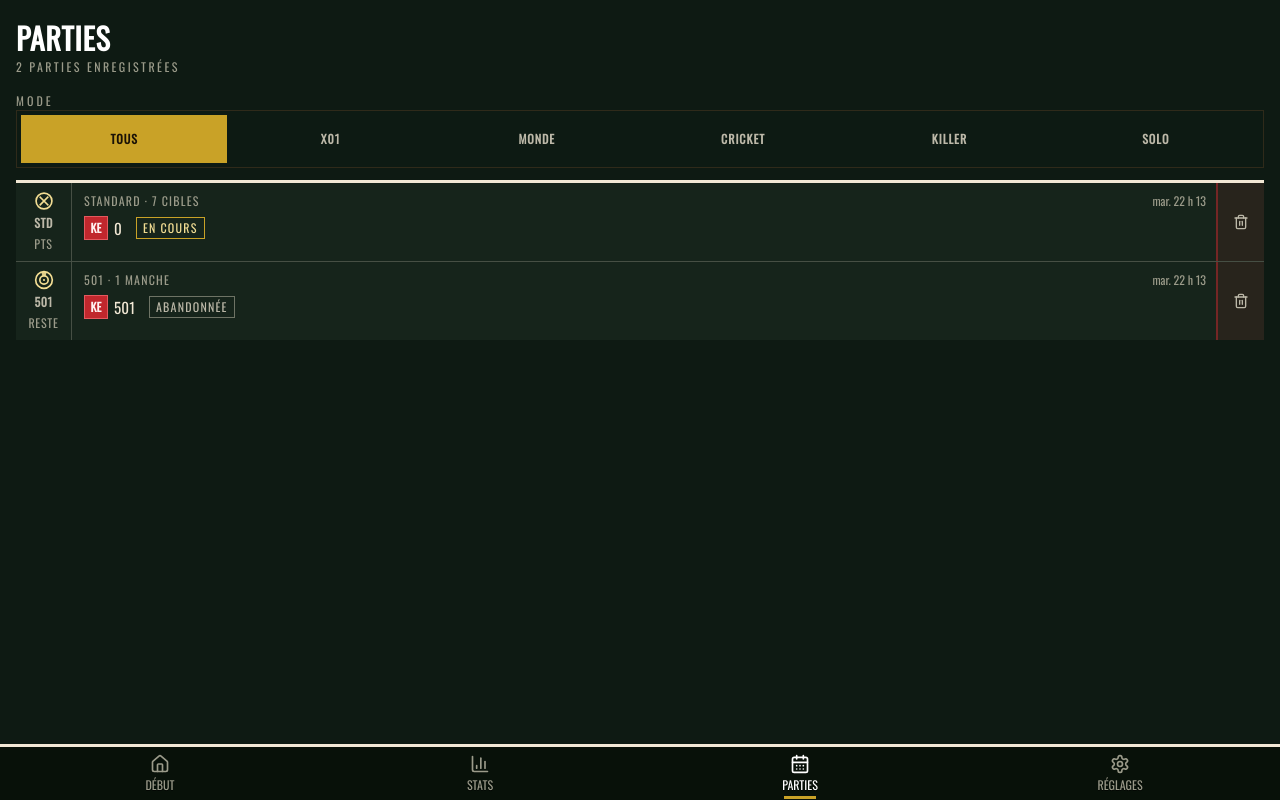
Historique — filtre de mode › ne garde que le mode choisi
Expected: the text "2 parties enregistrées" is shown, top-left (16, 58), bottom-right (180, 76)
Click the button "Cricket". click: [743, 139]
box: top-left (640, 115), bottom-right (846, 163)
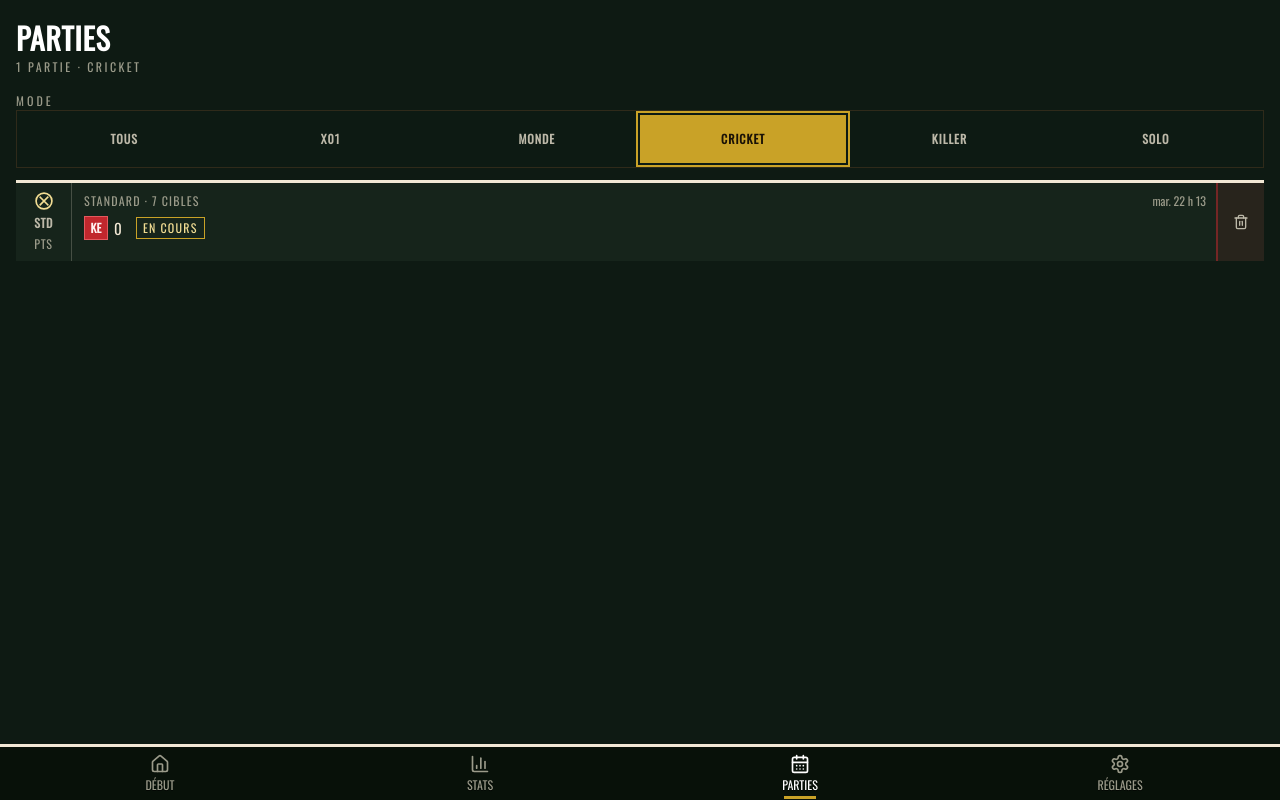
Now the text "1 partie · Cricket" is shown, box top-left (16, 58), bottom-right (141, 76)
